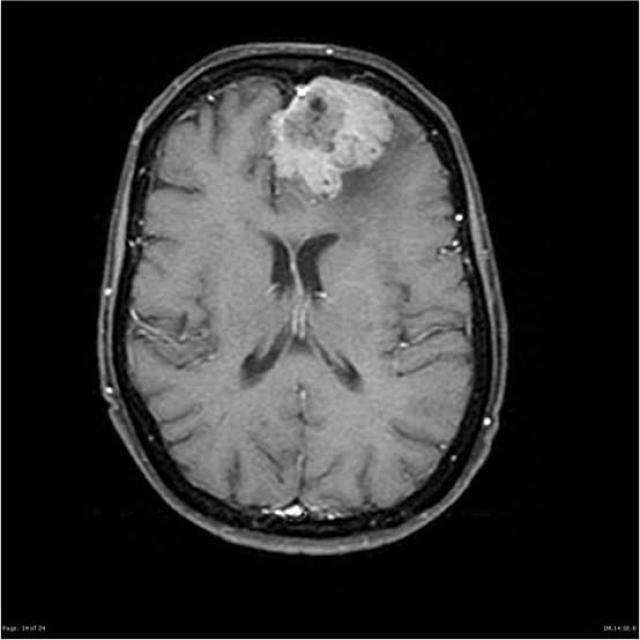brain_tumor: (269, 76, 394, 199)
